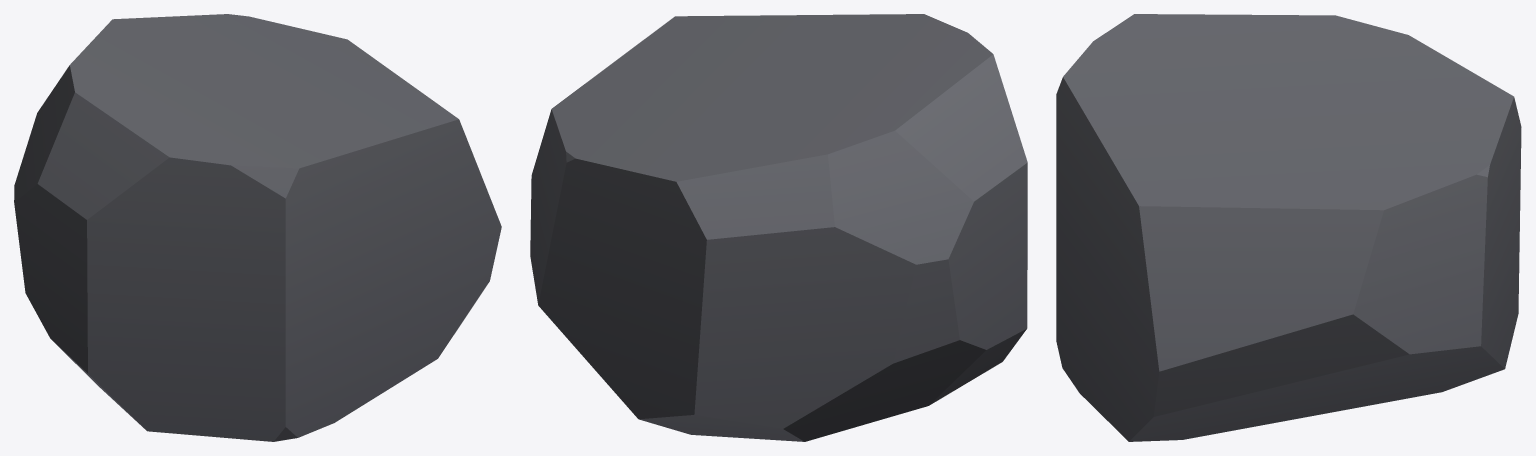
The model's file is SmallRock_03.fbx.
3 views of the same model, side by side, from view 1: azimuth 30°, elevation 25°; view 2: azimuth 150°, elevation 25°; view 3: azimuth 270°, elevation 25° (orthographic). The views are drawn at different scales.
Visible parts, largest first — view 1: SmallRock_03_LOD0; view 2: SmallRock_03_LOD0; view 3: SmallRock_03_LOD0.
Boxes of the visible parts, x1,y1,x2,y2 form: SmallRock_03_LOD0: (14, 14, 501, 441); SmallRock_03_LOD0: (530, 14, 1027, 441); SmallRock_03_LOD0: (1056, 14, 1521, 441).
Size of what is drawn, in the model's own units: 0.4112 by 0.2789 by 0.3805.
